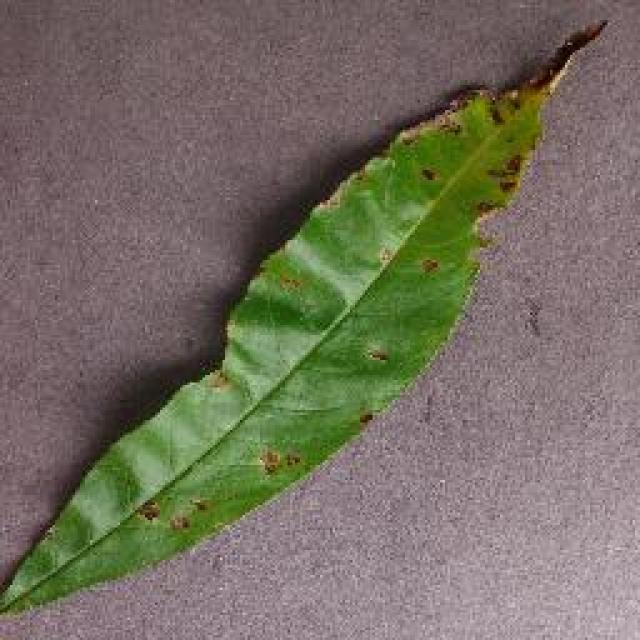Peach_Bacterial_Spot: (325, 108, 502, 322)
